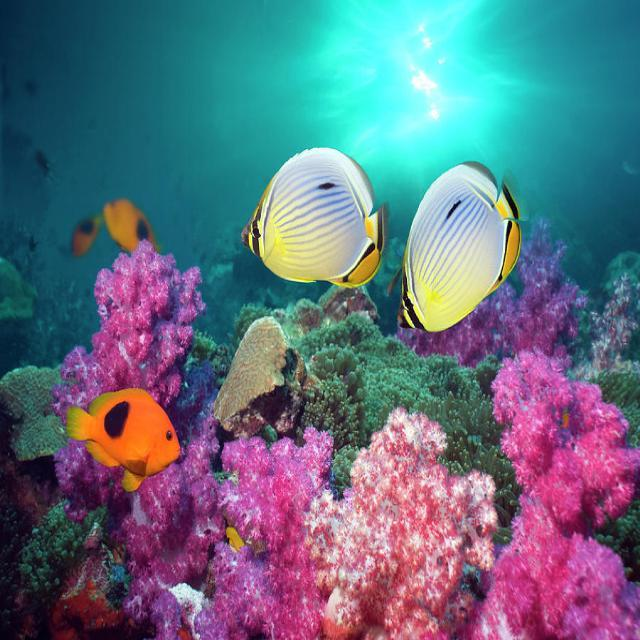ButterflyFish: (386, 152, 554, 348), (228, 126, 401, 296), (59, 385, 198, 501)
